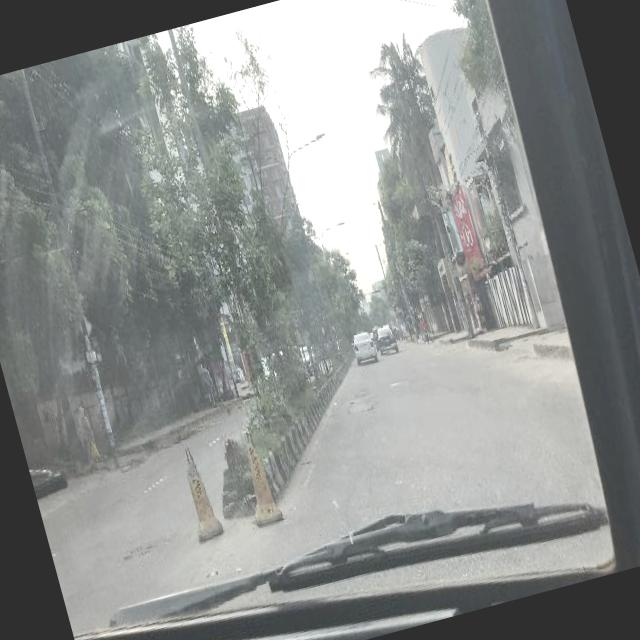car: (351, 329, 378, 365), (376, 323, 400, 354)
motorcycle: (418, 314, 432, 343)
